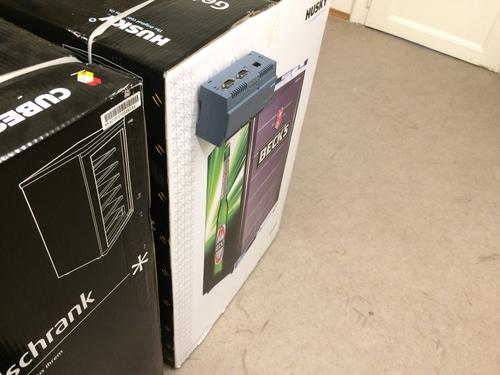iot2000: (195, 50, 278, 149)
